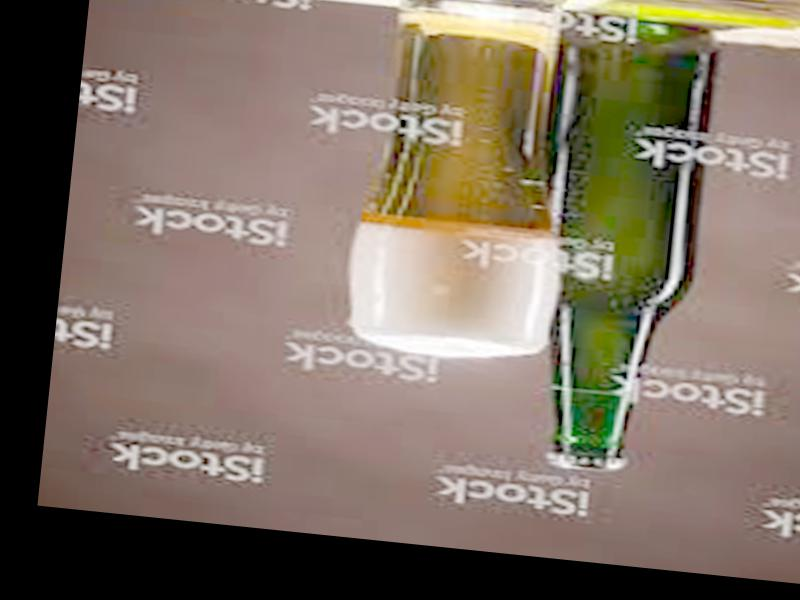Beer: (511, 8, 723, 478)
